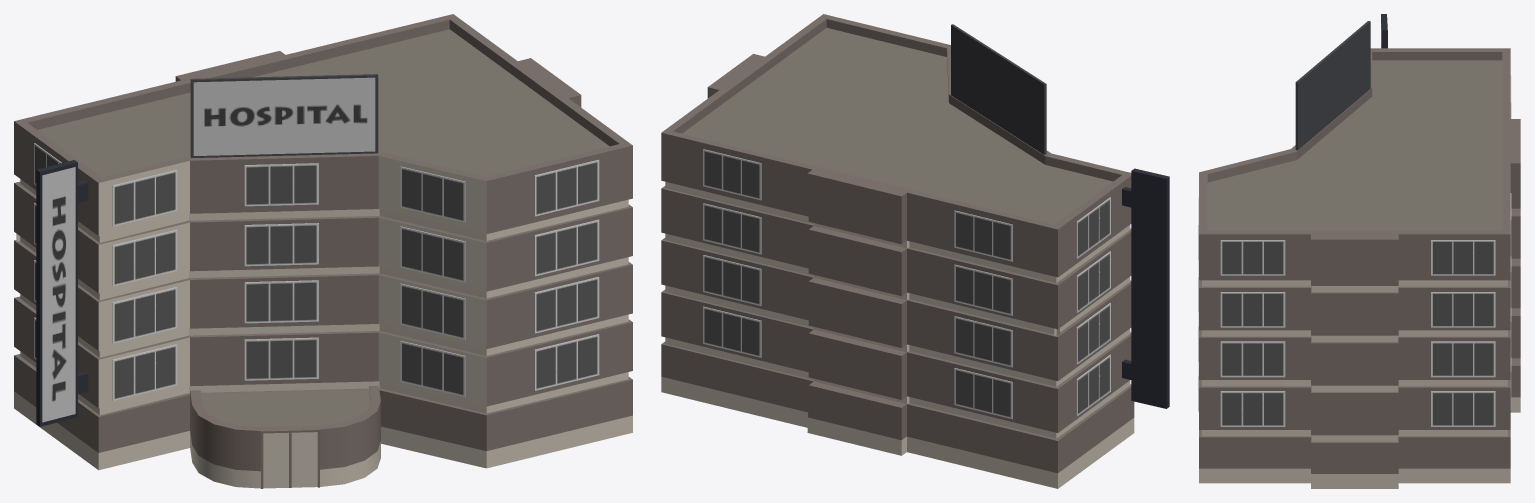
The model's file is hospital01_color02.fbx.
3 views of the same model, side by side, from view 1: azimuth 30°, elevation 25°; view 2: azimuth 150°, elevation 25°; view 3: azimuth 270°, elevation 25° (orthographic). The views are drawn at different scales.
Parts seen in each view (by area): view 1: hospital01_color02; view 2: hospital01_color02; view 3: hospital01_color02.
Boxes of the visible parts, left/top/right/bottom form: hospital01_color02: left=14, top=14, right=632, bottom=488; hospital01_color02: left=661, top=14, right=1169, bottom=488; hospital01_color02: left=1198, top=14, right=1520, bottom=488.
Size of the model in its own units: 2739 by 1907 by 1758.
